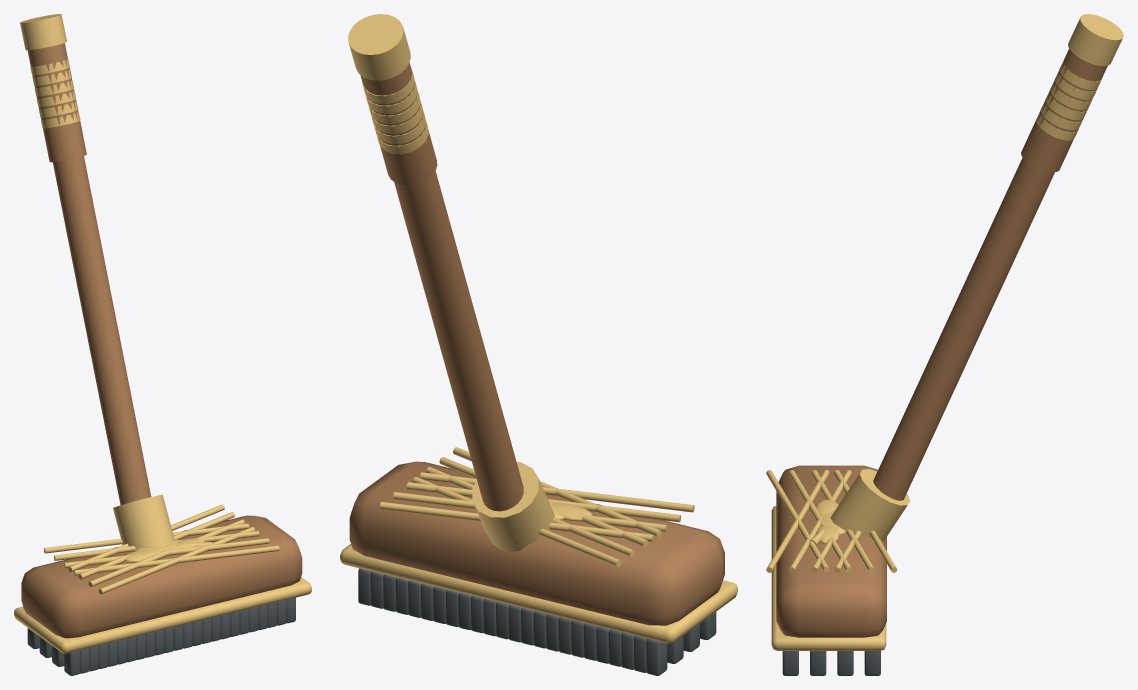
File: tier_8_master_lattice.glb
3 renders of one model, left to right at view 1: azimuth 30°, elevation 25°; view 2: azimuth 150°, elevation 25°; view 3: azimuth 270°, elevation 25°, orthographic. The views are drawn at different scales.
Parts seen in each view (by area): view 1: BrushTier8_Master; view 2: BrushTier8_Master; view 3: BrushTier8_Master.
Part boxes in pixels (<box>): BrushTier8_Master: <box>14,14,311,675</box>; BrushTier8_Master: <box>340,14,737,675</box>; BrushTier8_Master: <box>766,14,1123,675</box>.
Bounding box in the file's own units: 0.79 × 1.61 × 0.8736.
